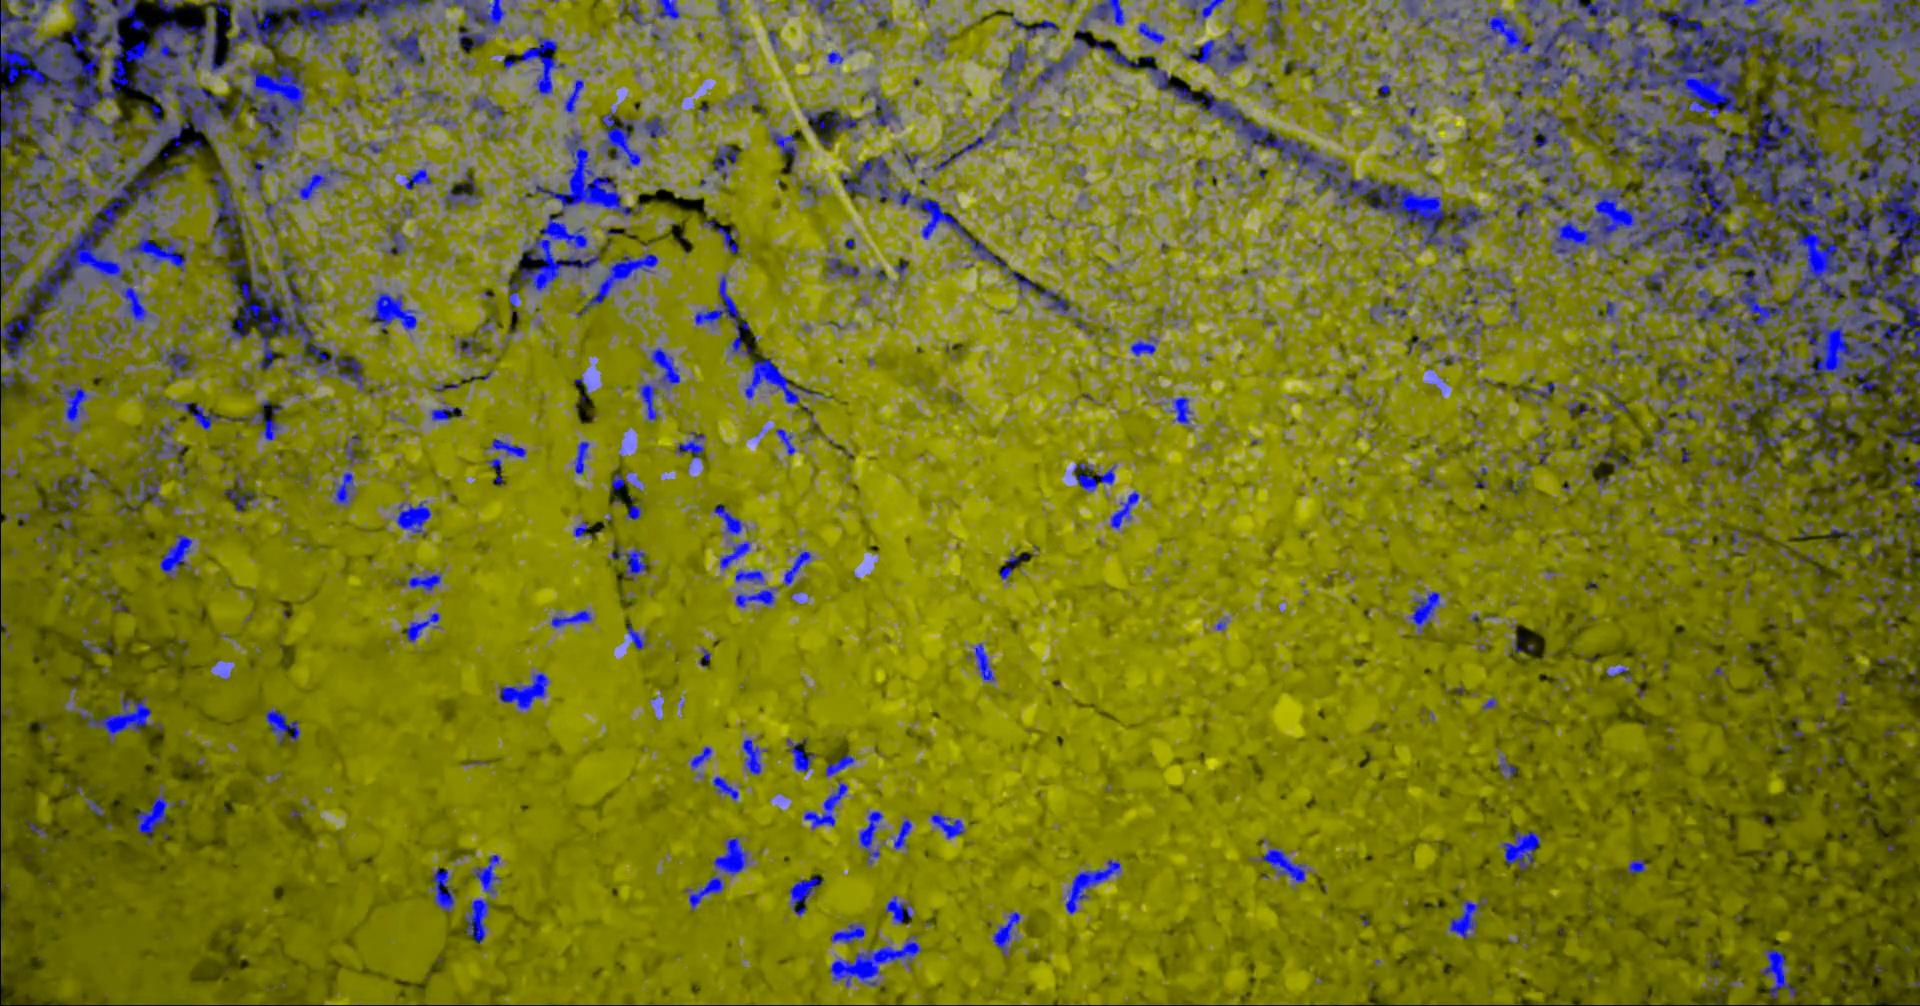ant: (932, 100, 1018, 171), (0, 579, 11, 848), (1064, 859, 1120, 913), (519, 36, 564, 95), (135, 790, 183, 843), (599, 111, 640, 168), (159, 395, 220, 431), (119, 459, 165, 506), (803, 780, 847, 828), (367, 290, 417, 332), (1827, 526, 1884, 561), (1759, 949, 1797, 1000), (498, 672, 549, 709), (295, 166, 345, 199), (1258, 847, 1305, 882), (1501, 829, 1540, 870), (803, 108, 862, 135), (149, 439, 189, 478), (1448, 897, 1486, 937), (717, 0, 745, 53), (226, 412, 279, 439), (861, 88, 899, 126), (157, 344, 196, 382), (683, 875, 724, 911), (712, 836, 748, 875), (159, 533, 190, 577), (1410, 591, 1440, 635), (264, 708, 300, 746), (444, 169, 479, 208), (700, 220, 739, 254), (789, 876, 823, 916), (999, 43, 1029, 89), (56, 384, 88, 426), (858, 810, 883, 864), (992, 911, 1020, 956), (650, 347, 679, 389), (1073, 462, 1115, 492), (395, 500, 430, 535), (223, 474, 257, 511), (1010, 15, 1059, 39), (611, 547, 646, 580), (770, 130, 797, 170), (463, 898, 489, 942), (1110, 490, 1139, 528), (472, 854, 499, 894), (968, 641, 994, 681), (1886, 459, 1919, 490), (785, 737, 815, 771), (63, 464, 88, 507), (430, 868, 455, 911), (782, 551, 811, 586), (405, 612, 439, 641), (711, 144, 738, 180), (930, 810, 964, 838), (1265, 0, 1285, 44), (1035, 287, 1070, 312), (742, 738, 767, 774), (1595, 385, 1628, 412), (735, 587, 778, 607), (395, 572, 441, 591), (719, 541, 749, 569), (808, 0, 844, 23), (712, 506, 742, 533), (621, 0, 653, 25), (471, 95, 504, 119), (676, 431, 703, 459), (884, 895, 912, 923), (1657, 353, 1683, 384), (1514, 381, 1554, 400), (550, 608, 590, 627), (1189, 0, 1224, 22), (1653, 399, 1675, 434), (382, 224, 406, 255), (999, 553, 1027, 579), (825, 257, 858, 278), (333, 471, 354, 504), (637, 384, 657, 420), (488, 438, 524, 457), (563, 79, 583, 113), (1484, 271, 1515, 293), (830, 922, 865, 942), (1611, 352, 1647, 371), (824, 754, 855, 776), (1007, 271, 1035, 293), (712, 776, 738, 800), (1901, 537, 1919, 572), (1137, 22, 1164, 43), (404, 168, 432, 189), (455, 335, 483, 357), (1171, 395, 1192, 423), (278, 246, 297, 277), (626, 622, 648, 649), (1883, 518, 1905, 544), (417, 86, 450, 103), (573, 441, 589, 474), (263, 197, 278, 232), (1567, 399, 1597, 417), (775, 428, 795, 455), (1823, 471, 1851, 490), (1465, 64, 1490, 85), (641, 116, 665, 137), (1382, 296, 1406, 318), (1699, 342, 1723, 363), (893, 819, 910, 848), (1130, 337, 1158, 354), (690, 746, 711, 768), (655, 0, 681, 19), (1672, 370, 1688, 400), (204, 0, 232, 17), (486, 457, 503, 485), (1407, 335, 1431, 354), (1375, 74, 1390, 102), (430, 406, 461, 420), (177, 138, 202, 155), (81, 638, 107, 654), (1515, 198, 1537, 217), (734, 569, 763, 583), (625, 495, 641, 520), (342, 52, 361, 72), (1817, 447, 1837, 466), (1731, 528, 1750, 549), (84, 796, 104, 815), (1448, 309, 1469, 326), (1498, 757, 1515, 779), (58, 511, 71, 537), (1412, 142, 1436, 156), (1509, 298, 1523, 323), (1503, 183, 1525, 198), (343, 442, 358, 464), (1401, 0, 1418, 18), (903, 152, 919, 171), (116, 504, 136, 520), (1512, 636, 1533, 652), (1449, 90, 1476, 102), (573, 521, 590, 537), (157, 0, 183, 11), (872, 14, 891, 29), (1685, 408, 1704, 423), (1799, 447, 1815, 466), (28, 822, 47, 837), (1625, 857, 1644, 873), (1648, 95, 1669, 109), (1394, 124, 1415, 138), (1611, 450, 1625, 470), (60, 304, 71, 328), (157, 422, 174, 438), (610, 473, 625, 490), (1890, 484, 1898, 514), (1911, 499, 1919, 533), (894, 259, 907, 279), (1583, 124, 1600, 140), (1531, 432, 1547, 448), (432, 382, 460, 391), (1510, 478, 1524, 495), (1836, 690, 1848, 711), (1806, 486, 1818, 506), (799, 184, 819, 196), (1609, 339, 1625, 353), (0, 371, 14, 387), (1595, 447, 1611, 461), (825, 51, 843, 64), (502, 55, 517, 69), (767, 29, 777, 50), (1911, 367, 1919, 394), (698, 648, 710, 666), (1599, 412, 1613, 426), (390, 81, 403, 97), (1481, 696, 1496, 709), (1439, 8, 1457, 18), (366, 142, 383, 152), (1605, 300, 1615, 318), (1769, 404, 1783, 417), (1705, 953, 1719, 965), (1681, 448, 1690, 467), (874, 268, 885, 281), (48, 329, 60, 342), (0, 460, 3, 511)
